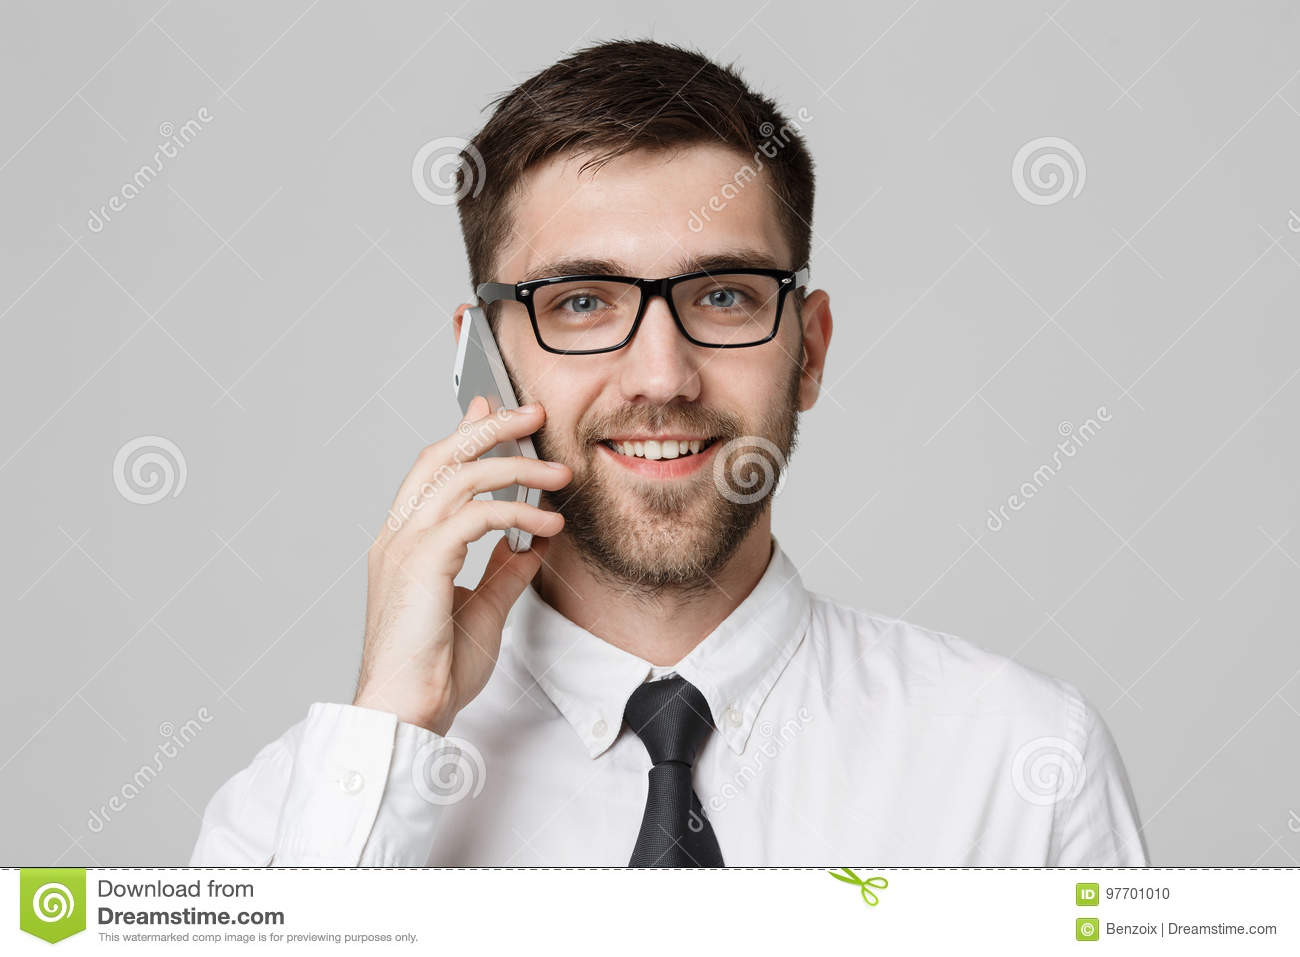phone: (447, 310, 546, 550)
talk: (364, 231, 785, 719)
